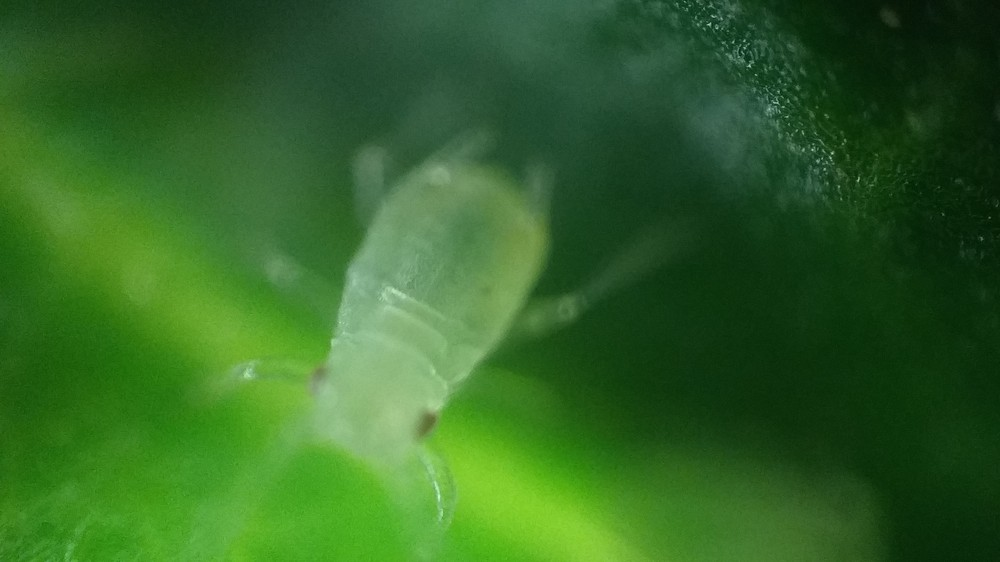Pulgon: (189, 103, 716, 535)
